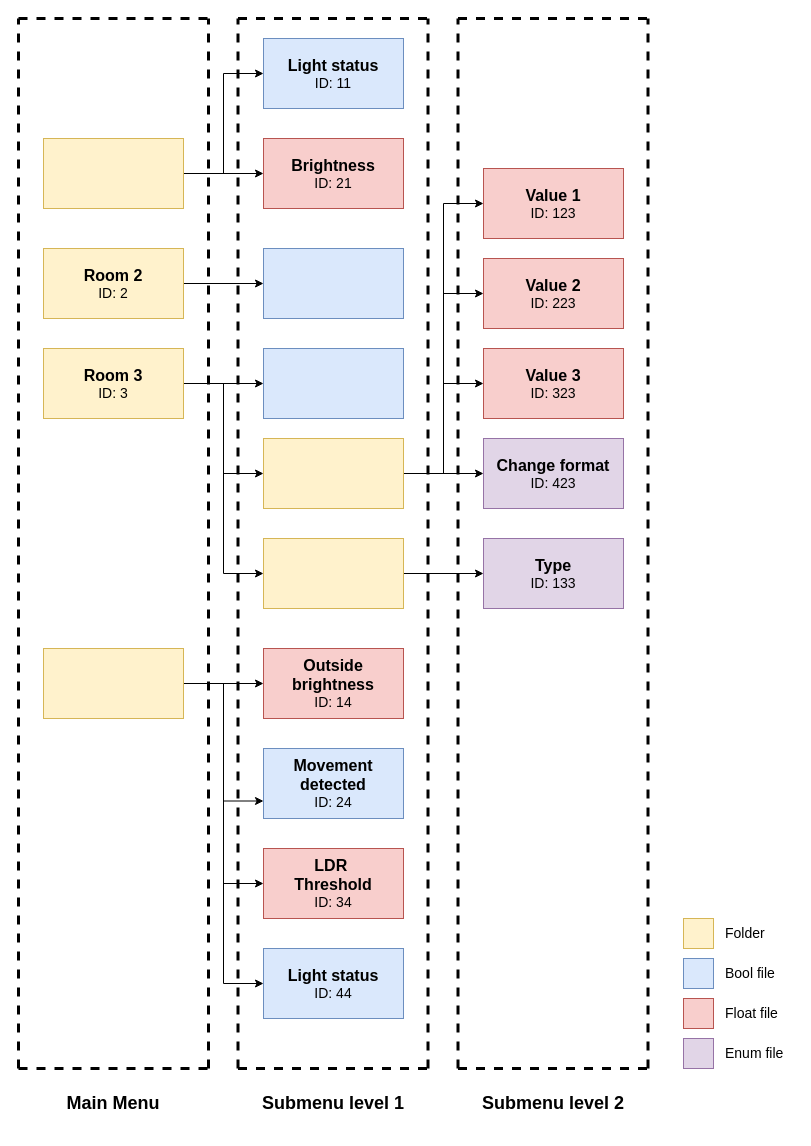
The diagram is 811 pixels wide and 1146 high, and some of its shapes have lost their labels. Each missing label, with the box of its shape:
Color ID: 23: (262, 438, 404, 508)
Door ID: 4: (42, 648, 184, 718)
Light status ID: 12: (262, 248, 404, 318)
Light status ID: 13: (262, 348, 404, 418)
Potentiometer type ID: 33: (262, 538, 404, 608)
Room 1 ID: 1: (42, 138, 184, 208)
